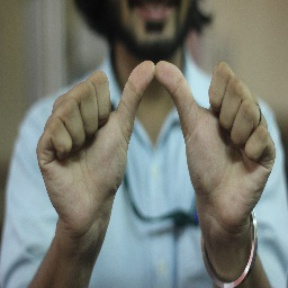A: (59, 56, 253, 191)
